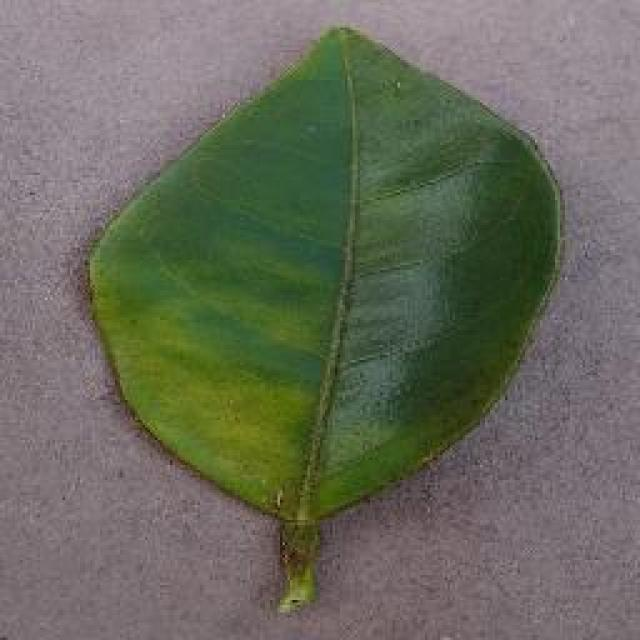Orange_Haunglongbing_Citrus_greening: (148, 88, 548, 464)
